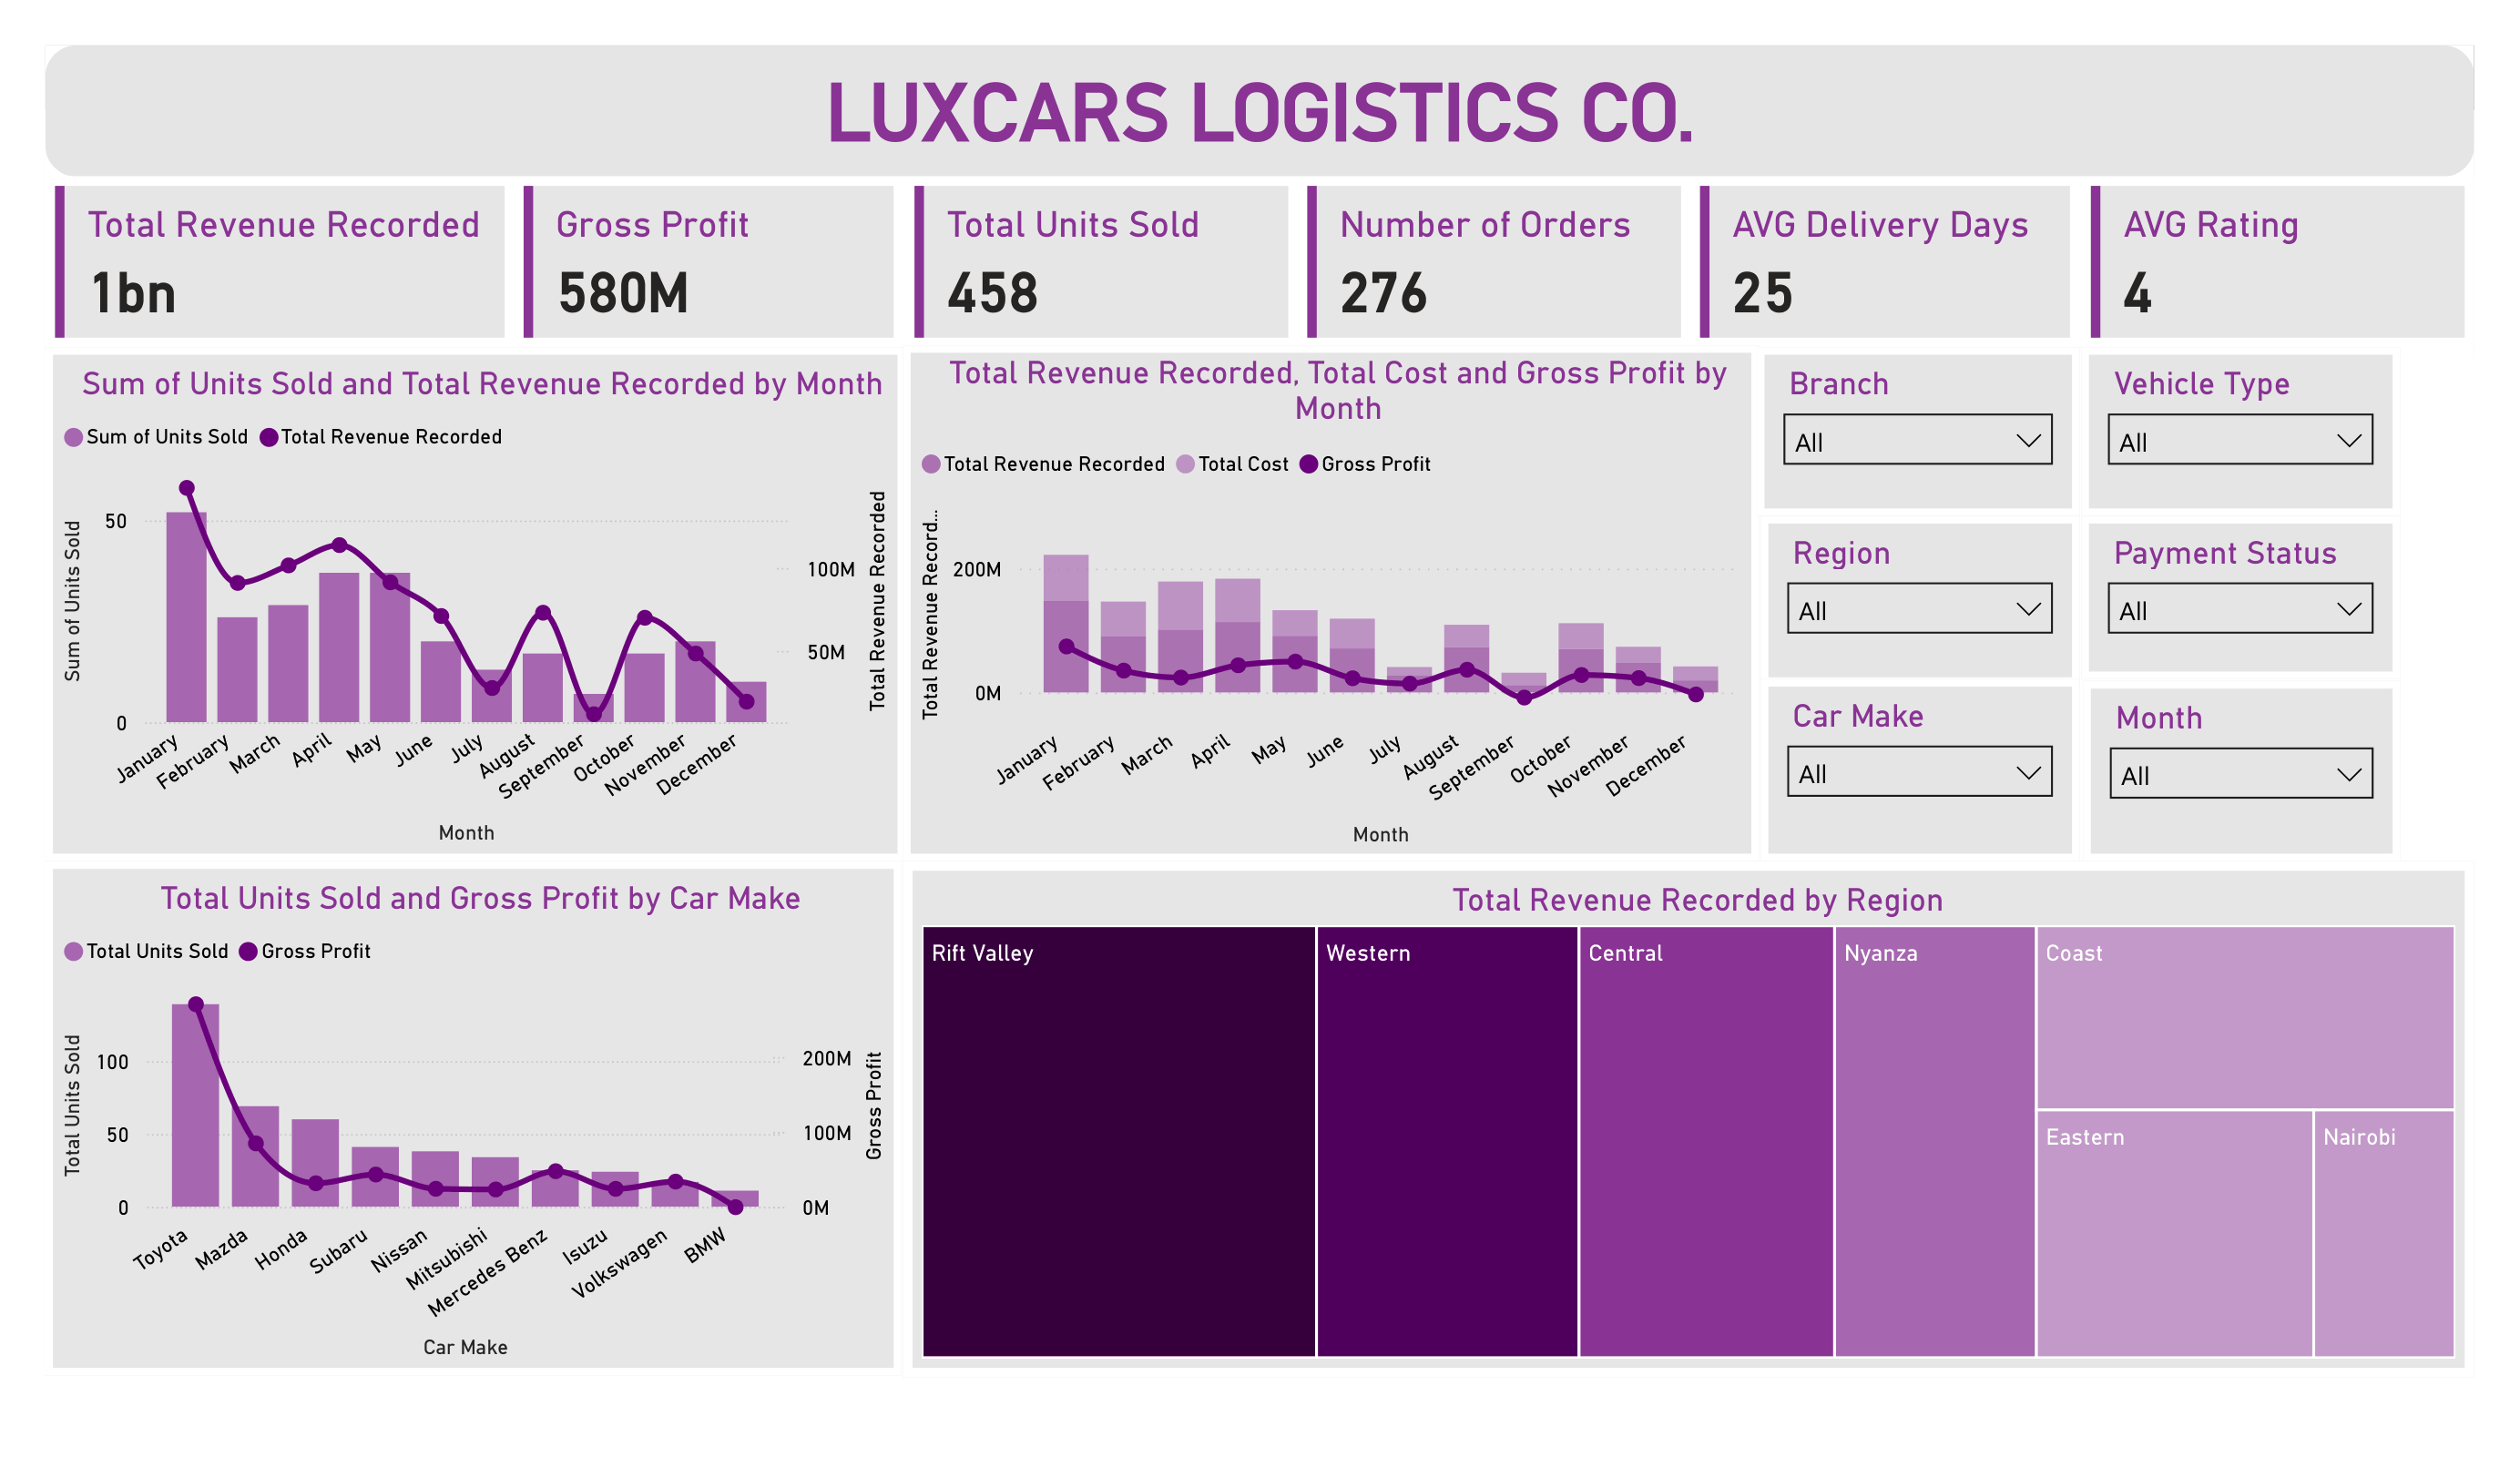

Layout of this report page (visuals, bound fields, positions):
{"tool":"powerbi","page":{"name":"Dashboard","canvas":[1280,720],"ordinal":0},"visuals":[{"type":"shape","box":[0,0,1280,68.6],"z":0},{"type":"cardVisual","fields":{"Data":["staging jcars.Total Revenue Recorded"]},"box":[0,68.6,247.1,90],"z":1000},{"type":"cardVisual","fields":{"Data":["staging jcars.Total Units Sold"]},"box":[452.9,68.6,207.1,90],"z":2000},{"type":"cardVisual","fields":{"Data":["staging jcars.Gross Profit"]},"box":[247.1,68.6,205.7,90],"z":3000},{"type":"cardVisual","fields":{"Data":["staging jcars.Number of Orders"]},"box":[660,68.6,207.1,90],"z":4000},{"type":"cardVisual","fields":{"Data":["staging jcars.Average delivery days"]},"box":[867.1,68.6,205.7,90],"z":5000},{"type":"cardVisual","fields":{"Data":["staging jcars.AVG Rating"]},"box":[1072.9,68.6,207.1,90],"z":6000},{"type":"lineClusteredColumnComboChart","fields":{"Category":["staging jcars.Car Make"],"Y":["staging jcars.Total Units Sold"],"Y2":["staging jcars.Gross Profit"]},"box":[0,430,451.4,271.4],"z":7000},{"type":"lineClusteredColumnComboChart","fields":{"Y":["Sum(staging jcars.Units Sold)"],"Y2":["staging jcars.Total Revenue Recorded"],"Category":["staging jcars.Order Date.Variation.Date Hierarchy.Month"]},"box":[0,158.6,452.9,271.4],"z":8000},{"type":"lineStackedColumnComboChart","fields":{"Category":["staging jcars.Order Date.Variation.Date Hierarchy.Month"],"Y":["staging jcars.Total Revenue Recorded","staging jcars.Total Cost"],"Y2":["staging jcars.Gross Profit"]},"box":[451.7,158.3,451.7,271.7],"z":9000},{"type":"treemap","fields":{"Group":["staging jcars.Region"],"Values":["staging jcars.Total Revenue Recorded"]},"box":[451.7,430,828.3,271.7],"z":10000},{"type":"slicer","fields":{"Values":["staging jcars.Branch"]},"box":[902.2,158.9,170,88.9],"z":11000},{"type":"slicer","fields":{"Values":["staging jcars.Region"]},"box":[904.4,247.8,167.8,88.9],"z":12000},{"type":"slicer","fields":{"Values":["staging jcars.Car Make"]},"box":[904.4,334.4,167.8,95.6],"z":13000},{"type":"slicer","fields":{"Values":["staging jcars.Vehicle Type"]},"box":[1073.3,158.9,167.8,88.9],"z":14000},{"type":"slicer","fields":{"Values":["staging jcars.Payment Status"]},"box":[1073.3,247.8,167.8,86.7],"z":15000},{"type":"slicer","fields":{"Values":["staging jcars.Order Date.Variation.Date Hierarchy.Month"]},"box":[1073.8,335,167.5,95],"z":16000}]}

Visuals, with their boxes on the page's 1280x720 design canvas (x1, y1, x2, y2). These are canvas units, not pixel positions in the 2520x1457 screenshot, which may show the page scaled, cropped or inside an application window:
shape: crop(0, 0, 1280, 69)
cardVisual - staging jcars.Total Revenue Recorded: crop(0, 69, 247, 159)
cardVisual - staging jcars.Total Units Sold: crop(453, 69, 660, 159)
cardVisual - staging jcars.Gross Profit: crop(247, 69, 453, 159)
cardVisual - staging jcars.Number of Orders: crop(660, 69, 867, 159)
cardVisual - staging jcars.Average delivery days: crop(867, 69, 1073, 159)
cardVisual - staging jcars.AVG Rating: crop(1073, 69, 1280, 159)
lineClusteredColumnComboChart - staging jcars.Car Make x staging jcars.Total Units Sold: crop(0, 430, 451, 701)
lineClusteredColumnComboChart - Sum(staging jcars.Units Sold) x staging jcars.Total Revenue Recorded: crop(0, 159, 453, 430)
lineStackedColumnComboChart - staging jcars.Order Date.Variation.Date Hierarchy.Month x staging jcars.Total Revenue Recorded: crop(452, 158, 903, 430)
treemap - staging jcars.Region x staging jcars.Total Revenue Recorded: crop(452, 430, 1280, 702)
slicer - staging jcars.Branch: crop(902, 159, 1072, 248)
slicer - staging jcars.Region: crop(904, 248, 1072, 337)
slicer - staging jcars.Car Make: crop(904, 334, 1072, 430)
slicer - staging jcars.Vehicle Type: crop(1073, 159, 1241, 248)
slicer - staging jcars.Payment Status: crop(1073, 248, 1241, 334)
slicer - staging jcars.Order Date.Variation.Date Hierarchy.Month: crop(1074, 335, 1241, 430)
